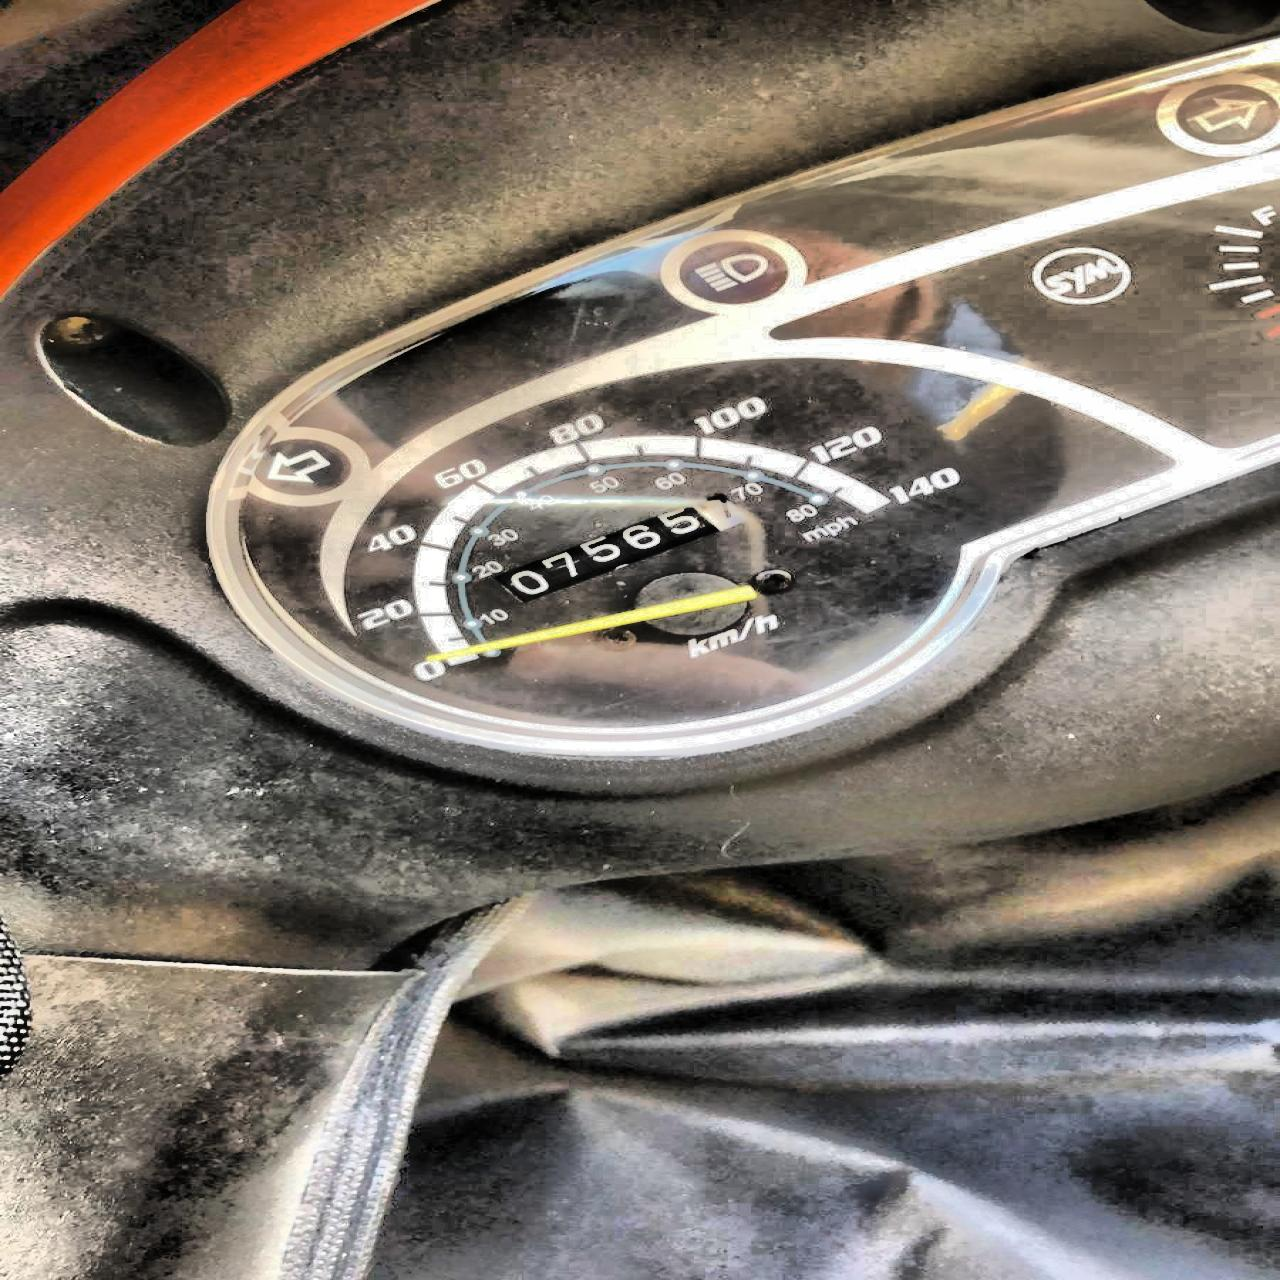0: (508, 571, 552, 595), (539, 492, 560, 505), (499, 527, 518, 540), (484, 559, 502, 572)
3: (486, 533, 502, 545)
4: (525, 502, 542, 513)
5: (572, 533, 625, 563), (654, 504, 704, 535)
7: (532, 551, 583, 577), (695, 493, 741, 519)
odometer: (489, 492, 750, 598)
